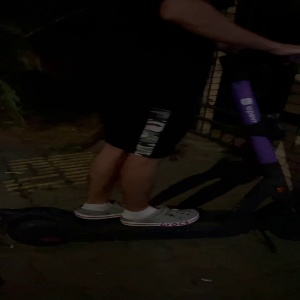human on a scooter: (1, 1, 300, 251)
